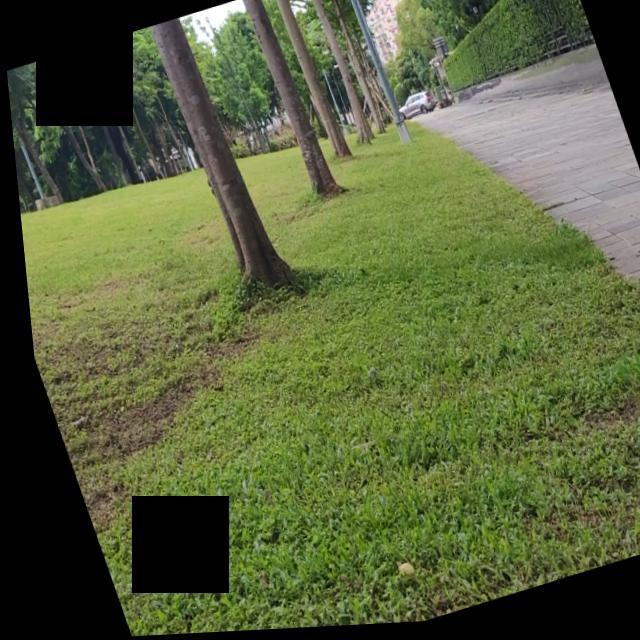Tree: (148, 11, 294, 320), (242, 1, 343, 208), (271, 1, 355, 182), (302, 1, 375, 157), (322, 1, 386, 144)
